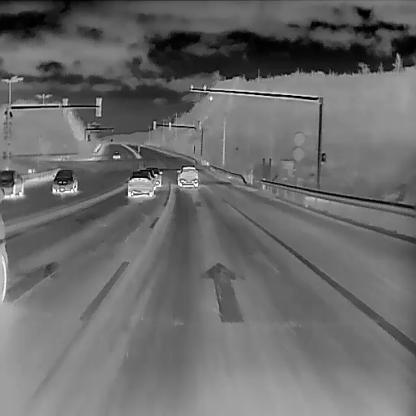car: (127, 170, 153, 197), (51, 168, 77, 194), (0, 168, 23, 196), (175, 165, 199, 188), (144, 165, 162, 187), (111, 150, 120, 158)
